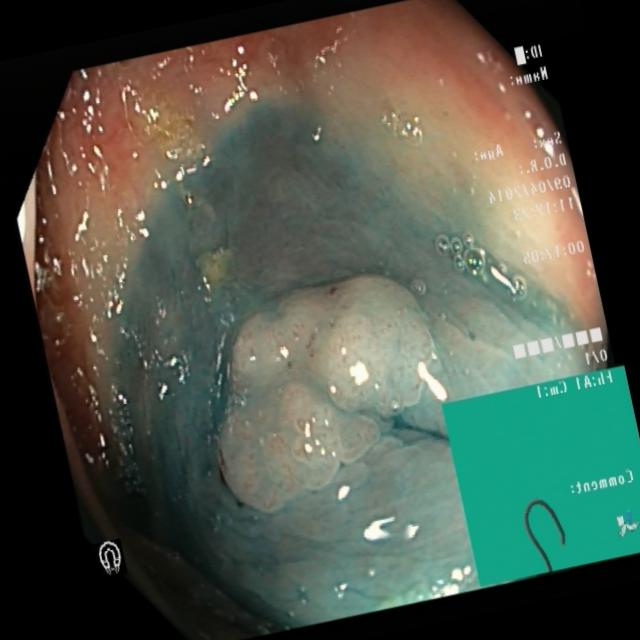dyed-lifted-polyps: (209, 261, 442, 533)
